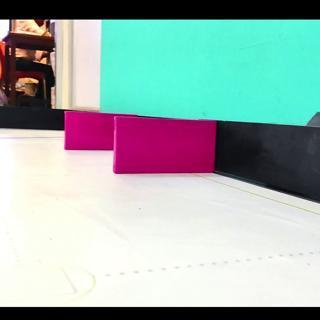xparking: (115, 122, 216, 174), (65, 112, 112, 152)
